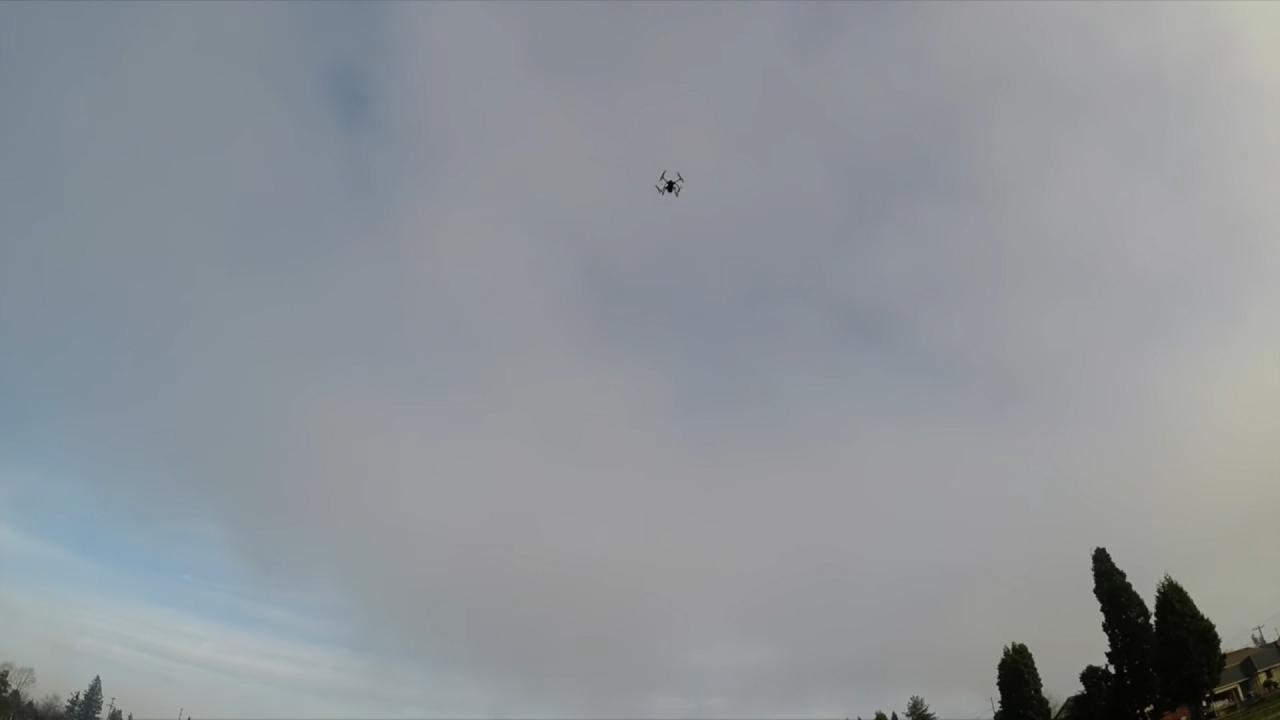Drone: (647, 161, 695, 209)
